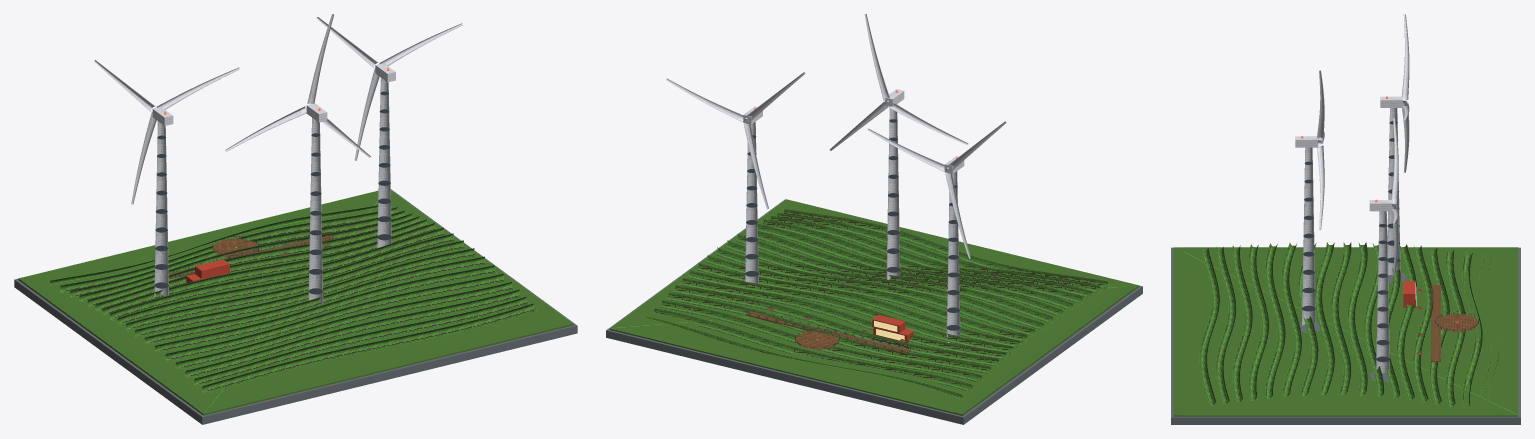
Rendered from ultra_lm_22_dien_gio_cau_dat.glb.
The picture shows the model from 3 angles, left to right: view 1: azimuth 30°, elevation 25°; view 2: azimuth 150°, elevation 25°; view 3: azimuth 270°, elevation 25°; orthographic projection. The views are drawn at different scales.
Visible parts, largest first — view 1: Contoured_1927_Tea_Terraces, WindTurbine_Towers_Nacelles_Blades, FoundationSkirt_Minus3m, Turbine_Platforms_And_Bridge_Railings, CloudHunting_Timber_Walkway, Container_Cafe_And_TeaPavilion; view 2: Contoured_1927_Tea_Terraces, WindTurbine_Towers_Nacelles_Blades, FoundationSkirt_Minus3m, Turbine_Platforms_And_Bridge_Railings, CloudHunting_Timber_Walkway, Container_Cafe_And_TeaPavilion; view 3: Contoured_1927_Tea_Terraces, WindTurbine_Towers_Nacelles_Blades, FoundationSkirt_Minus3m, CloudHunting_Timber_Walkway, Turbine_Platforms_And_Bridge_Railings, Container_Cafe_And_TeaPavilion.
Part boxes in pixels (bbox=[...]): Contoured_1927_Tea_Terraces: bbox=[18, 190, 573, 415]; WindTurbine_Towers_Nacelles_Blades: bbox=[94, 14, 462, 309]; FoundationSkirt_Minus3m: bbox=[14, 189, 577, 424]; Turbine_Platforms_And_Bridge_Railings: bbox=[154, 91, 391, 294]; CloudHunting_Timber_Walkway: bbox=[168, 235, 333, 278]; Container_Cafe_And_TeaPavilion: bbox=[186, 259, 229, 282]; Contoured_1927_Tea_Terraces: bbox=[609, 199, 1139, 415]; WindTurbine_Towers_Nacelles_Blades: bbox=[666, 14, 1006, 342]; FoundationSkirt_Minus3m: bbox=[606, 199, 1142, 424]; Turbine_Platforms_And_Bridge_Railings: bbox=[745, 119, 960, 352]; CloudHunting_Timber_Walkway: bbox=[746, 308, 910, 354]; Container_Cafe_And_TeaPavilion: bbox=[872, 314, 913, 342]; Contoured_1927_Tea_Terraces: bbox=[1173, 242, 1518, 416]; WindTurbine_Towers_Nacelles_Blades: bbox=[1295, 14, 1409, 373]; FoundationSkirt_Minus3m: bbox=[1171, 247, 1520, 424]; CloudHunting_Timber_Walkway: bbox=[1416, 285, 1478, 361]; Turbine_Platforms_And_Bridge_Railings: bbox=[1302, 121, 1478, 362]; Container_Cafe_And_TeaPavilion: bbox=[1403, 281, 1415, 308].
Size of the model in its own units: 154 by 116 by 132.
Materials: 8 (4 with a texture image).
